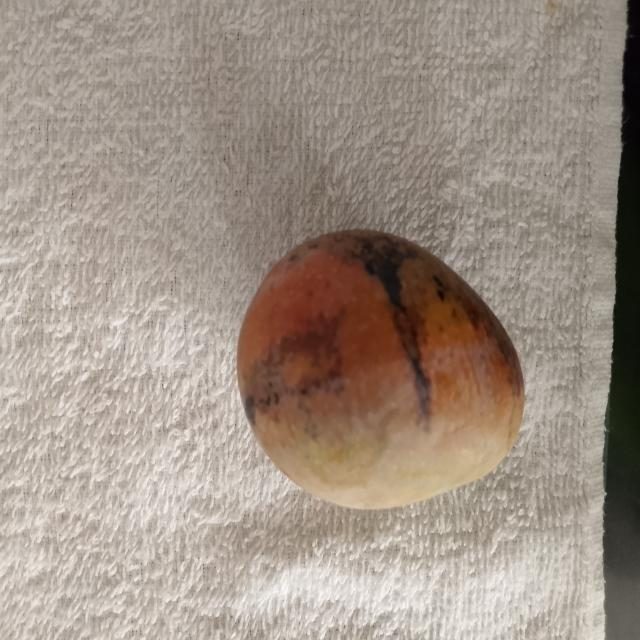mango: (234, 212, 526, 513)
